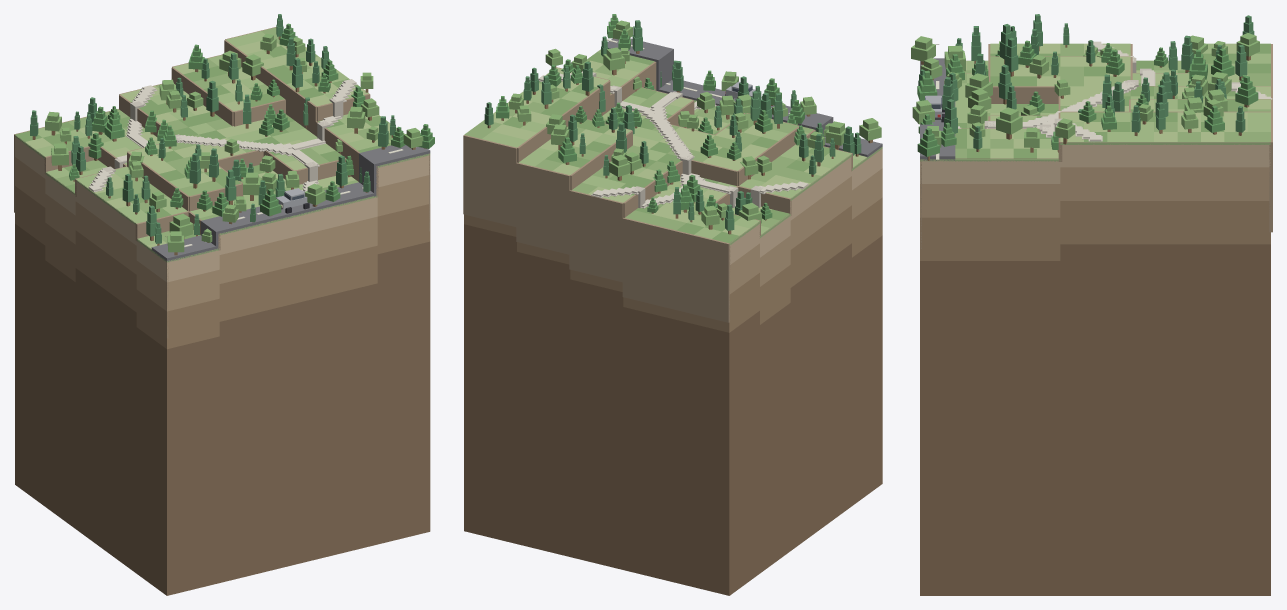
Rendered from block_2_undergroundtanks_0.glb.
3 views of the same model, side by side, from view 1: azimuth 30°, elevation 25°; view 2: azimuth 150°, elevation 25°; view 3: azimuth 270°, elevation 25° (orthographic). The views are drawn at different scales.
Visible parts, largest first — view 1: Patch_UpperLeft_b06_UT, Ghats_UpperLeft_b06_UT, Roads_UpperLeft_b06_UT; view 2: Patch_UpperLeft_b06_UT, Ghats_UpperLeft_b06_UT, Roads_UpperLeft_b06_UT; view 3: Patch_UpperLeft_b06_UT, Ghats_UpperLeft_b06_UT, Roads_UpperLeft_b06_UT, ULG_T192_UT, ULG_T108_UT, ULG_T175_UT.
Part boxes in pixels (left/top/right/bottom): Patch_UpperLeft_b06_UT: left=15, top=137, right=430, bottom=595; Ghats_UpperLeft_b06_UT: left=14, top=27, right=430, bottom=338; Roads_UpperLeft_b06_UT: left=151, top=145, right=430, bottom=261; Patch_UpperLeft_b06_UT: left=464, top=149, right=882, bottom=595; Ghats_UpperLeft_b06_UT: left=463, top=49, right=882, bottom=322; Roads_UpperLeft_b06_UT: left=607, top=38, right=882, bottom=157; Patch_UpperLeft_b06_UT: left=920, top=144, right=1270, bottom=595; Ghats_UpperLeft_b06_UT: left=920, top=41, right=1272, bottom=248; Roads_UpperLeft_b06_UT: left=920, top=58, right=955, bottom=160; ULG_T192_UT: left=996, top=107, right=1022, bottom=139; ULG_T108_UT: left=911, top=36, right=935, bottom=64; ULG_T175_UT: left=1235, top=75, right=1258, bottom=107.
Size of the model in its own units: 9.77 by 14.67 by 9.79.
